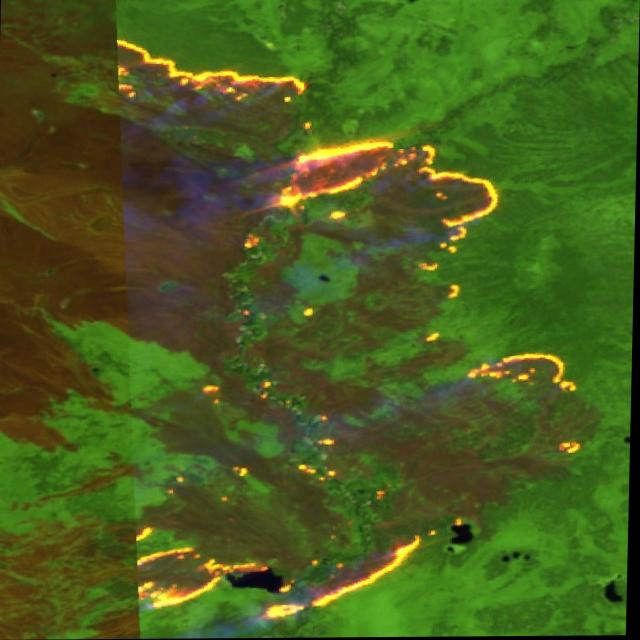fire: (103, 32, 614, 639)
